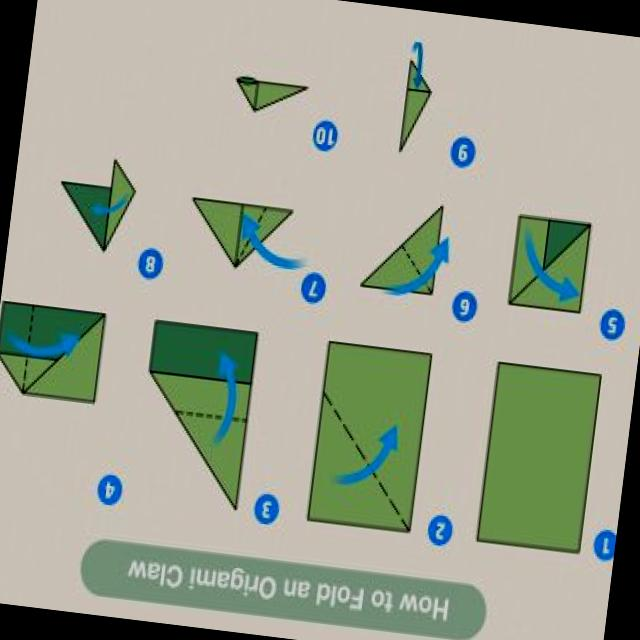arrow: (524, 231, 578, 302), (335, 426, 397, 484), (387, 236, 448, 294), (240, 214, 303, 269), (213, 351, 236, 442), (7, 332, 77, 356), (90, 195, 127, 215), (411, 39, 423, 86)
fold-line: (504, 215, 597, 305), (323, 391, 367, 462), (100, 182, 114, 254), (172, 408, 222, 420), (400, 244, 419, 275), (26, 304, 34, 343), (235, 238, 249, 259)
